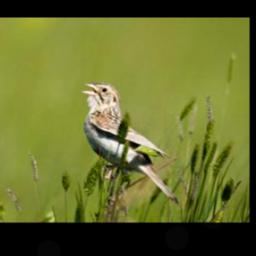Sparrow: (79, 80, 178, 203)
